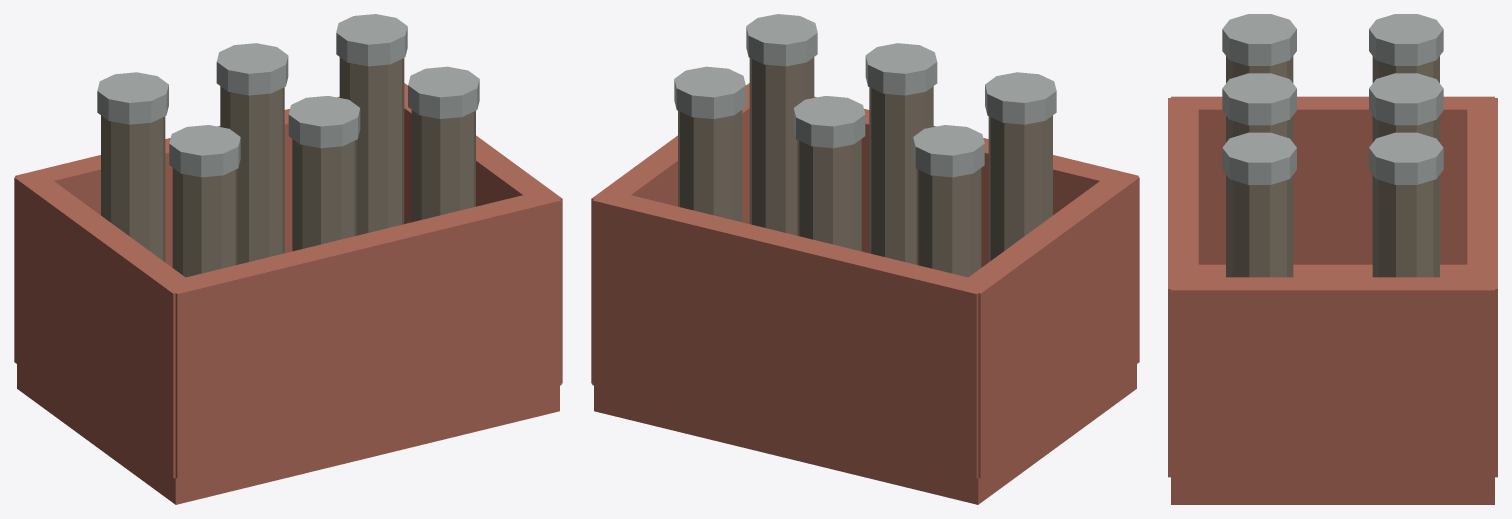
File: beer-crate.glb
The picture shows the model from 3 angles, left to right: view 1: azimuth 30°, elevation 25°; view 2: azimuth 150°, elevation 25°; view 3: azimuth 270°, elevation 25°; orthographic projection.
Parts seen in each view (by area): view 1: crate bottom, returnable bottle, bottle cap; view 2: crate bottom, returnable bottle, bottle cap; view 3: crate bottom, bottle cap, returnable bottle.
Boxes of the visible parts, x1=… form: crate bottom: x1=14, y1=83, x2=562, y2=504; returnable bottle: x1=101, y1=57, x2=475, y2=277; bottle cap: x1=97, y1=14, x2=479, y2=177; crate bottom: x1=591, y1=83, x2=1139, y2=504; returnable bottle: x1=678, y1=57, x2=1052, y2=277; bottle cap: x1=674, y1=14, x2=1056, y2=177; crate bottom: x1=1168, y1=96, x2=1497, y2=504; bottle cap: x1=1222, y1=14, x2=1443, y2=184; returnable bottle: x1=1226, y1=56, x2=1439, y2=277.
Bounding box in the file's own units: 0.75 × 0.58 × 0.54.
